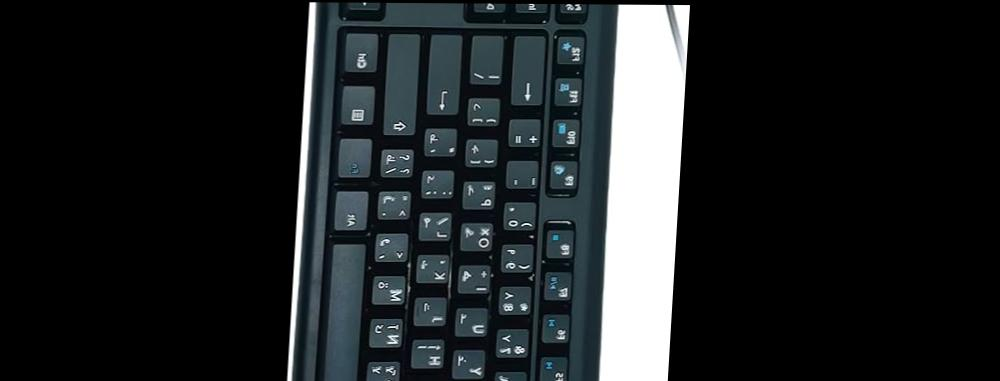keyboard: (286, 2, 629, 381)
